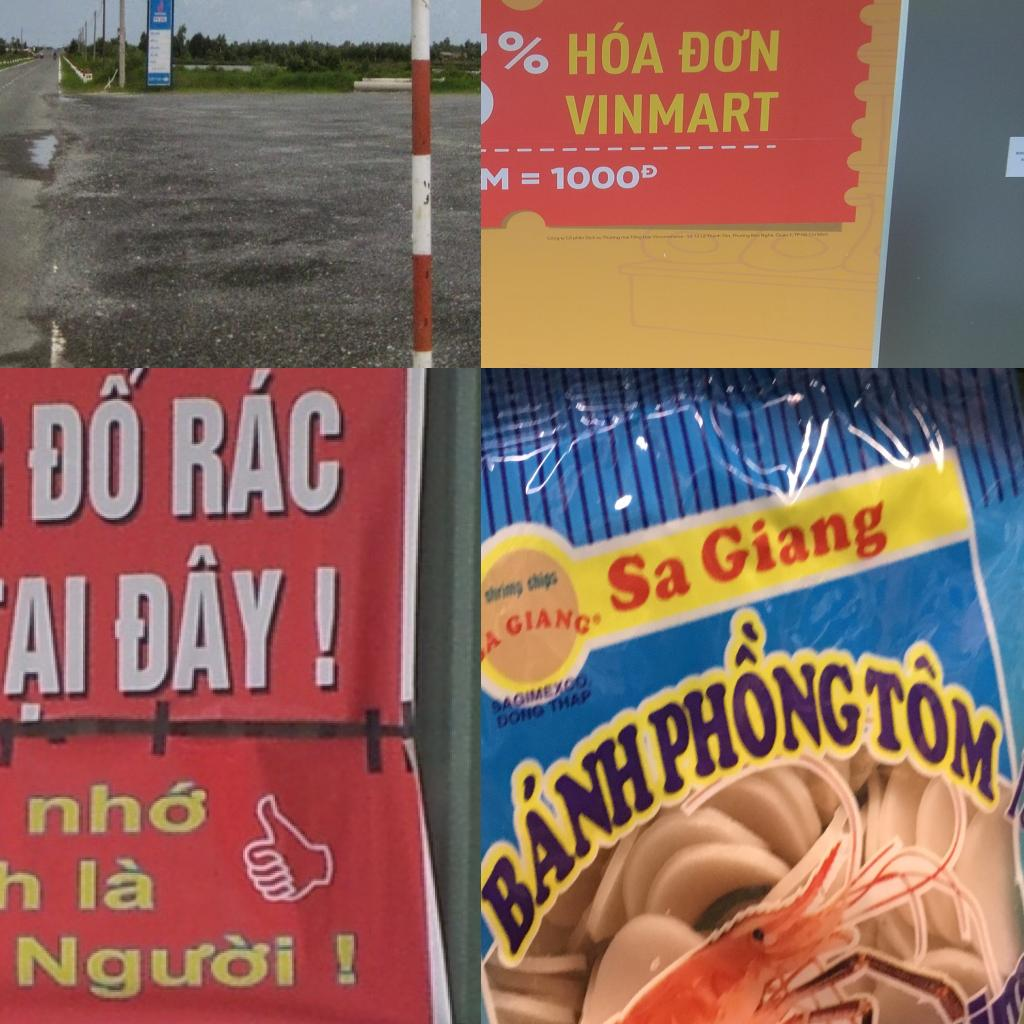text: (616, 589, 865, 810), (481, 686, 659, 965), (111, 540, 343, 700), (856, 622, 1019, 818), (170, 368, 344, 518), (695, 477, 894, 598), (832, 903, 1024, 1024), (21, 368, 153, 529), (13, 934, 296, 1008), (0, 572, 91, 722), (24, 779, 216, 838), (557, 90, 785, 136), (481, 24, 554, 139), (602, 536, 696, 620), (560, 18, 669, 77), (670, 28, 784, 76), (72, 857, 162, 916), (488, 667, 592, 716), (543, 162, 665, 195), (502, 603, 595, 640), (998, 732, 1024, 856), (492, 702, 546, 734), (545, 686, 592, 718), (482, 575, 526, 607), (481, 150, 512, 194), (524, 564, 564, 596), (481, 624, 504, 669)
